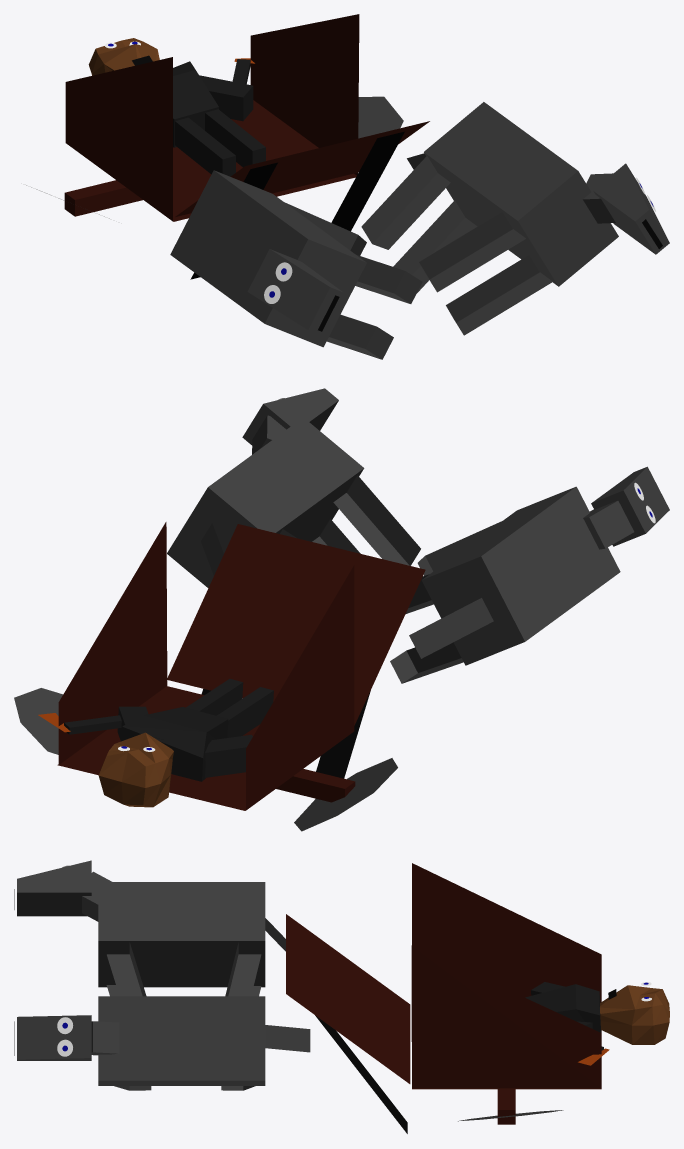
The model's file is lightchariot2d.obj.
3 views of the same model, one above another, from view 1: azimuth 30°, elevation 25°; view 2: azimuth 150°, elevation 25°; view 3: azimuth 270°, elevation 25° (orthographic). The views are drawn at different scales.
Parts seen in each view (by area): view 1: Cube.006_Cube.009, Cube.015_Cube.017, Plane.003, Plane.004, Plane.002, Plane.005_Plane.006, Cube.021_Cube.023, Cube.012_Cube.014, Cube.011_Cube.013, Cube.009_Cube.010, Cube.014_Cube.016, Plane.013_Plane.014 (+13 smaller); view 2: Plane.005_Plane.006, Cube.015_Cube.017, Cube.006_Cube.009, Plane.003, Plane.004, Plane.002, Cube, Cube.001, Cube.012_Cube.014, Cube.021_Cube.023, Cube.014_Cube.016, Plane.010_Plane.011 (+12 smaller); view 3: Plane.004, Cube.015_Cube.017, Cube.006_Cube.009, Plane.003, Plane.005_Plane.006, Cube, Cube.021_Cube.023, Cube.014_Cube.016, Cube.001, Cube.018_Cube.020, Cube.017_Cube.019, Plane.008_Plane.009 (+4 smaller).
Boxes of the visible parts, bbox=[...] form: Cube.006_Cube.009: bbox=[424, 102, 618, 286]; Cube.015_Cube.017: bbox=[170, 170, 366, 347]; Plane.003: bbox=[65, 57, 172, 221]; Plane.004: bbox=[250, 14, 359, 175]; Plane.002: bbox=[173, 100, 356, 221]; Plane.005_Plane.006: bbox=[175, 121, 429, 216]; Cube.021_Cube.023: bbox=[247, 249, 343, 335]; Cube.012_Cube.014: bbox=[419, 211, 525, 292]; Cube.011_Cube.013: bbox=[446, 255, 552, 335]; Cube.009_Cube.010: bbox=[361, 156, 450, 249]; Cube.014_Cube.016: bbox=[593, 163, 669, 254]; Plane.013_Plane.014: bbox=[331, 131, 404, 231]; Plane.005_Plane.006: bbox=[167, 524, 425, 725]; Cube.015_Cube.017: bbox=[421, 486, 620, 665]; Cube.006_Cube.009: bbox=[167, 417, 364, 587]; Plane.003: bbox=[246, 565, 354, 810]; Plane.004: bbox=[58, 522, 167, 764]; Plane.002: bbox=[57, 686, 259, 810]; Cube: bbox=[98, 732, 173, 807]; Cube.001: bbox=[120, 707, 228, 781]; Cube.012_Cube.014: bbox=[333, 475, 420, 565]; Cube.021_Cube.023: bbox=[591, 466, 669, 546]; Cube.014_Cube.016: bbox=[242, 388, 338, 445]; Plane.010_Plane.011: bbox=[409, 598, 493, 658]; Plane.004: bbox=[411, 945, 601, 1088]; Cube.015_Cube.017: bbox=[98, 882, 265, 987]; Cube.006_Cube.009: bbox=[98, 996, 265, 1085]; Plane.003: bbox=[412, 863, 601, 1002]; Plane.005_Plane.006: bbox=[286, 914, 410, 1083]; Cube: bbox=[600, 985, 669, 1044]; Cube.021_Cube.023: bbox=[17, 860, 91, 916]; Cube.014_Cube.016: bbox=[17, 1015, 91, 1060]; Cube.001: bbox=[525, 984, 601, 1032]; Cube.018_Cube.020: bbox=[106, 942, 146, 996]; Cube.017_Cube.019: bbox=[225, 942, 261, 996]; Plane.008_Plane.009: bbox=[265, 1025, 310, 1052].
Size of the model in its own units: 10.32 by 5.55 by 16.63.
